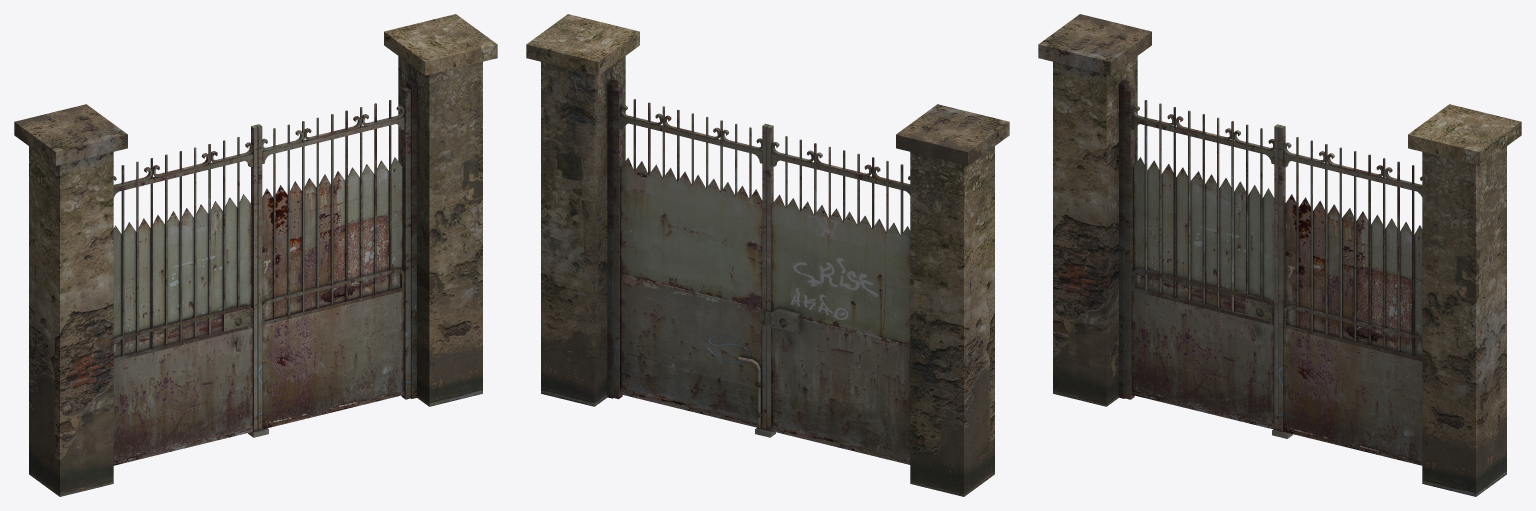
Rendered from Iron_Gate_Fab.fbx.
3 renders of one model, left to right at view 1: azimuth 30°, elevation 25°; view 2: azimuth 150°, elevation 25°; view 3: azimuth 330°, elevation 25°, orthographic.
Parts seen in each view (by area): view 1: Iron_Gate; view 2: Iron_Gate; view 3: Iron_Gate.
Boxes of the visible parts, x1=… form: Iron_Gate: x1=14, y1=14, x2=497, y2=496; Iron_Gate: x1=526, y1=14, x2=1009, y2=496; Iron_Gate: x1=1038, y1=14, x2=1521, y2=496.
Bounding box in the file's own units: 576 × 438 × 94.04.
Materials: 1 (1 with a texture image).
